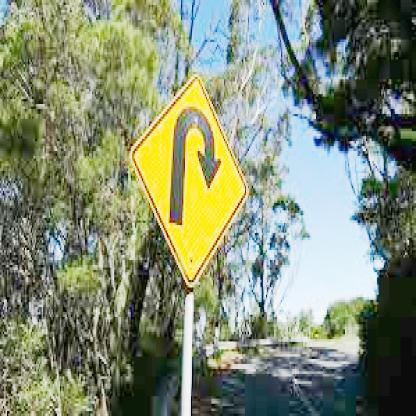U-turn: (130, 72, 252, 285)
